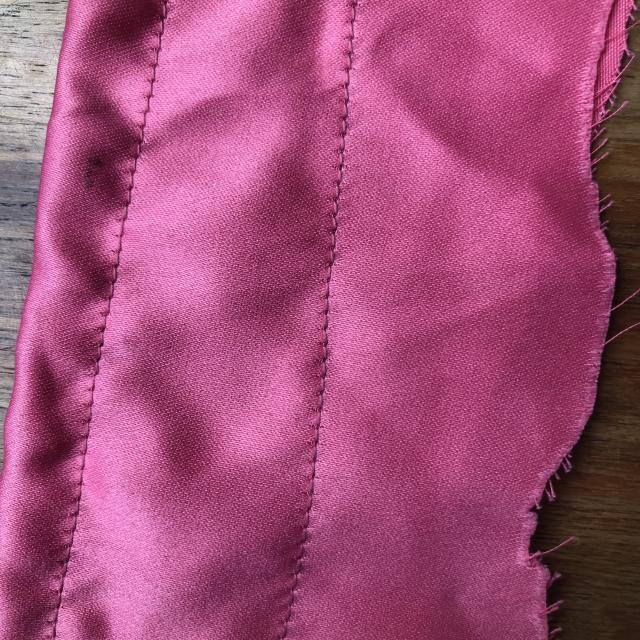good: (328, 89, 361, 229)
